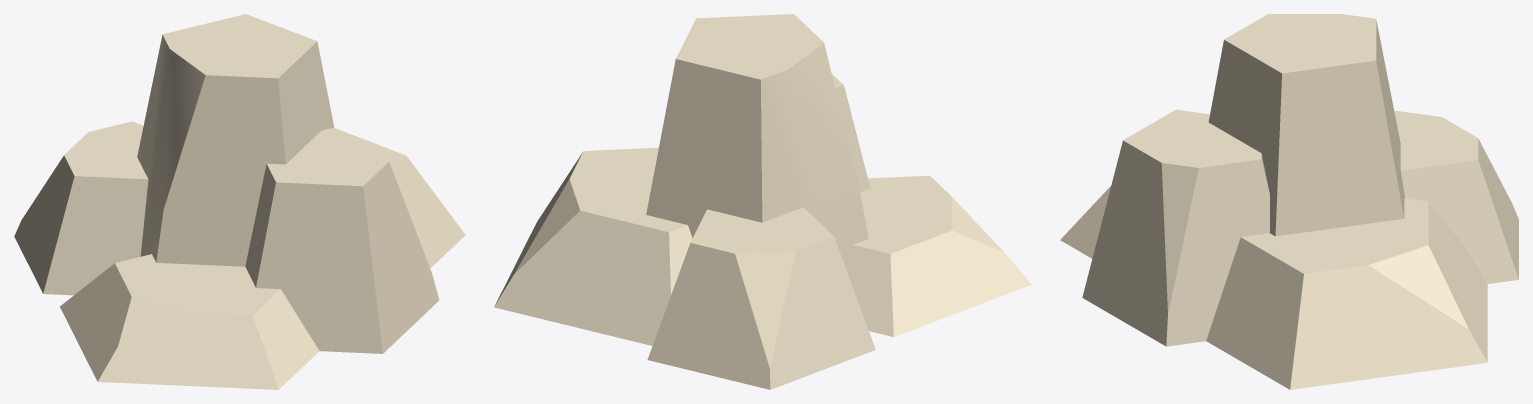
The model's file is small_rock.glb.
3 views of the same model, side by side, from view 1: azimuth 30°, elevation 25°; view 2: azimuth 150°, elevation 25°; view 3: azimuth 270°, elevation 25° (orthographic). The views are drawn at different scales.
Parts seen in each view (by area): view 1: rockB; view 2: rockB; view 3: rockB.
Boxes of the visible parts, box(x1,y1,x2,y2) form: rockB: box(14, 14, 465, 389); rockB: box(494, 14, 1031, 389); rockB: box(1060, 14, 1518, 389).
Size of the model in its own units: 0.7991 by 0.4186 by 0.7247.
